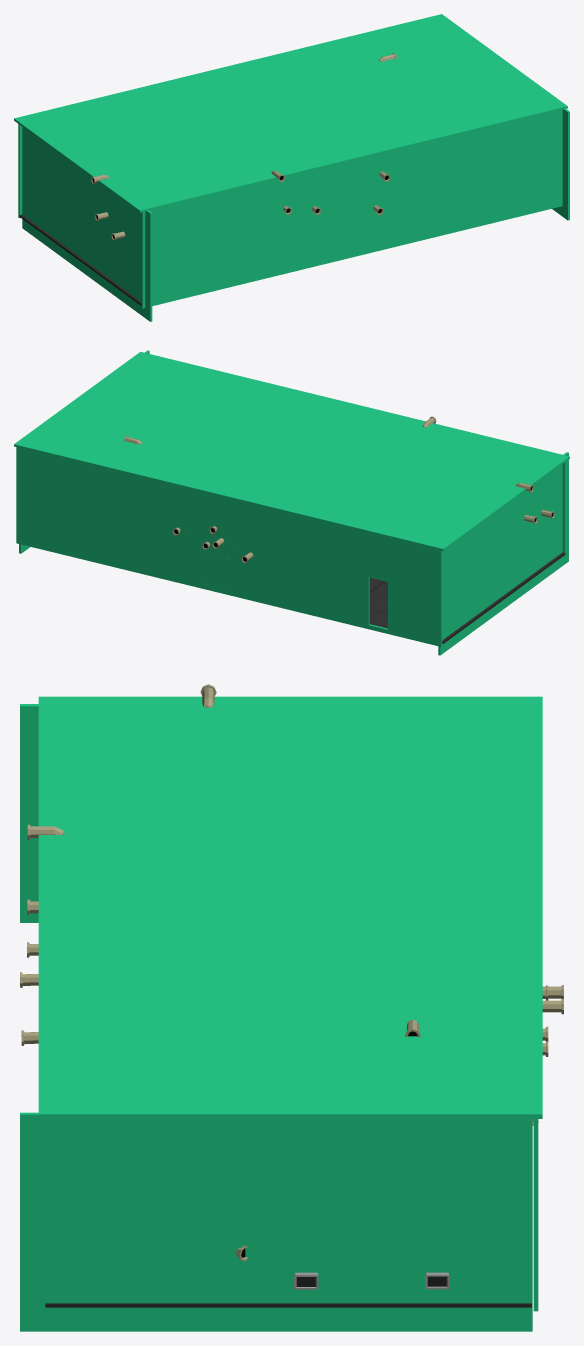
File: fixed room.fbx
3 renders of one model, top to bottom at view 1: azimuth 30°, elevation 25°; view 2: azimuth 150°, elevation 25°; view 3: azimuth 270°, elevation 25°, orthographic. The views are drawn at different scales.
Parts seen in each view (by area): view 1: ROOM; view 2: ROOM; view 3: ROOM.
Boxes of the visible parts, bbox=[...] form: ROOM: bbox=[14, 14, 569, 321]; ROOM: bbox=[14, 350, 569, 655]; ROOM: bbox=[20, 684, 563, 1331].
Bounding box in the file's own units: 2046 × 513 × 1112.
